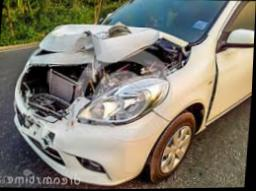Bonnet: (16, 21, 191, 123)
Bumper: (14, 103, 70, 147)
Fender: (200, 53, 224, 125)
